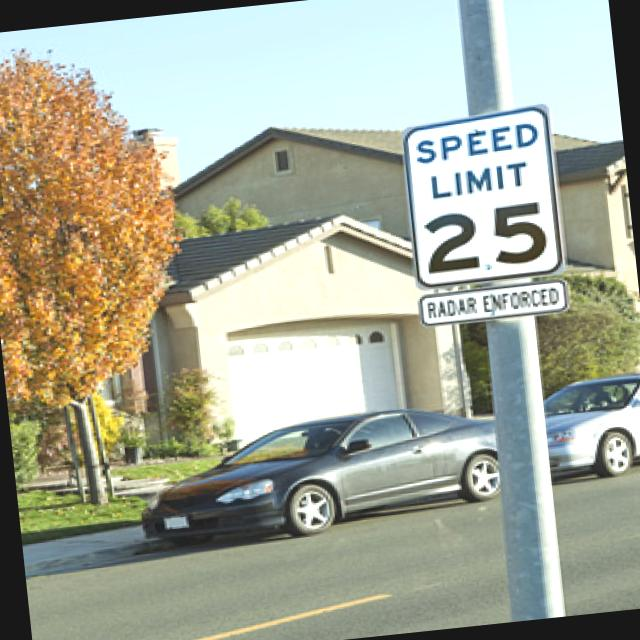Speed Limit Signs: (396, 105, 566, 290)
